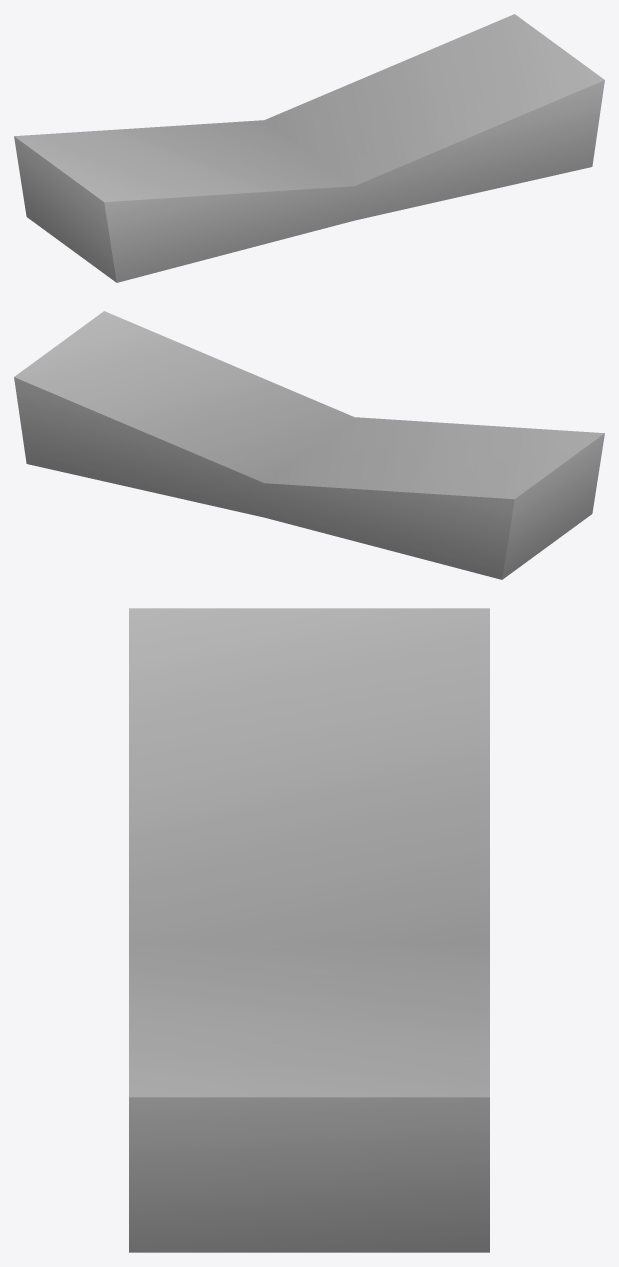
File: stone_guard_059.glb
The picture shows the model from 3 angles, top to bottom: view 1: azimuth 30°, elevation 25°; view 2: azimuth 150°, elevation 25°; view 3: azimuth 270°, elevation 25°; orthographic projection. The views are drawn at different scales.
Visible parts, largest first — view 1: stone_guard.059; view 2: stone_guard.059; view 3: stone_guard.059.
Part boxes in pixels (bbox=[...]): stone_guard.059: bbox=[14, 14, 604, 282]; stone_guard.059: bbox=[14, 311, 604, 579]; stone_guard.059: bbox=[129, 608, 489, 1252].
Bounding box in the file's own units: 6.41 × 1.03 × 2.
Materials: 1 (1 with a texture image).
